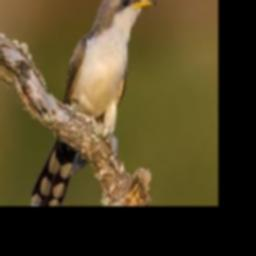Cuckoo: (29, 0, 157, 205)
